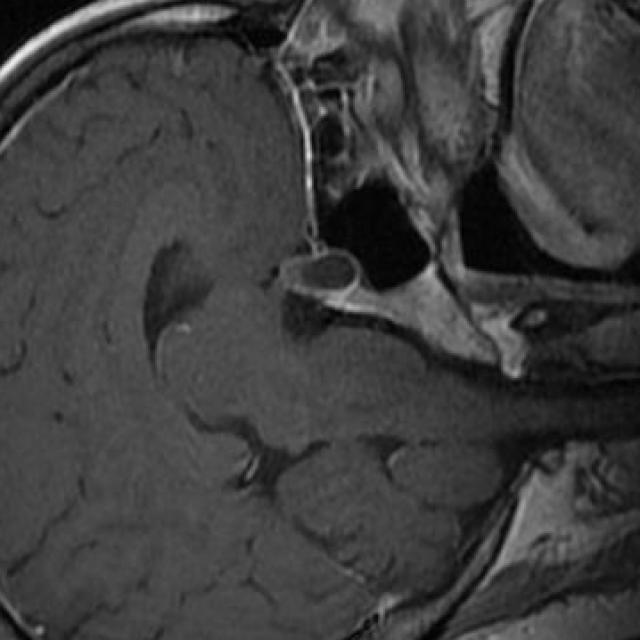pituitary: (280, 248, 360, 303)
